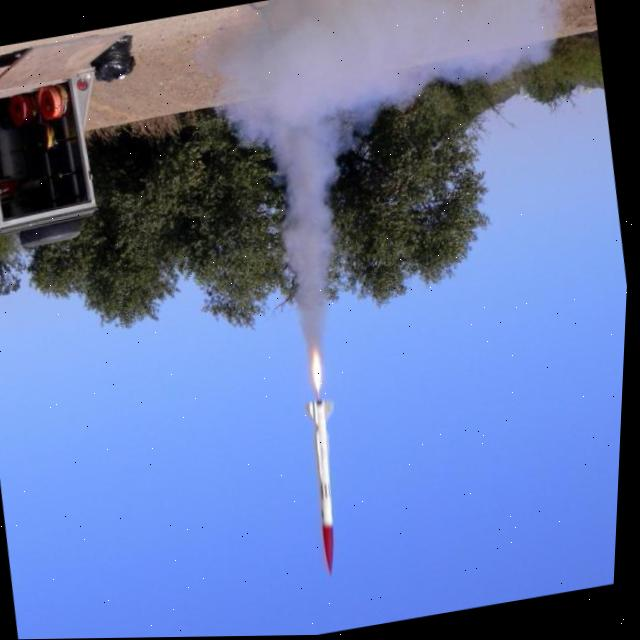missile: (292, 390, 379, 590)
